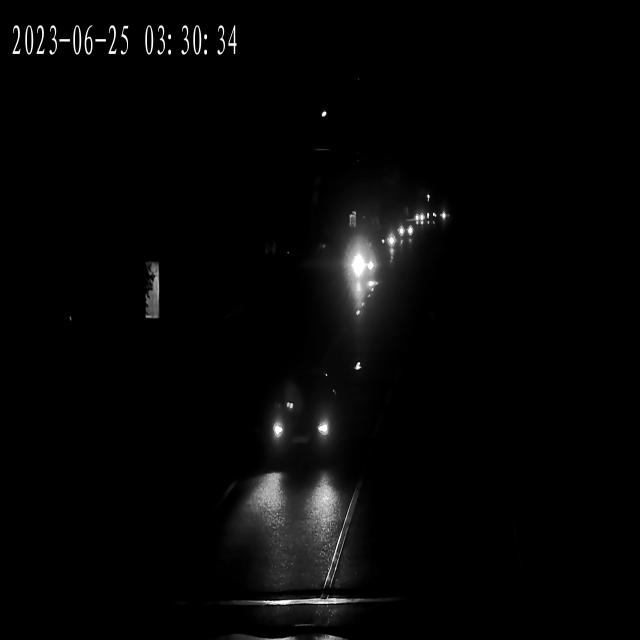Car: (258, 374, 345, 461), (344, 247, 376, 279), (394, 223, 414, 241), (396, 220, 414, 238), (378, 230, 396, 248), (382, 232, 399, 250), (413, 213, 430, 226), (412, 212, 426, 225), (434, 211, 449, 222)
